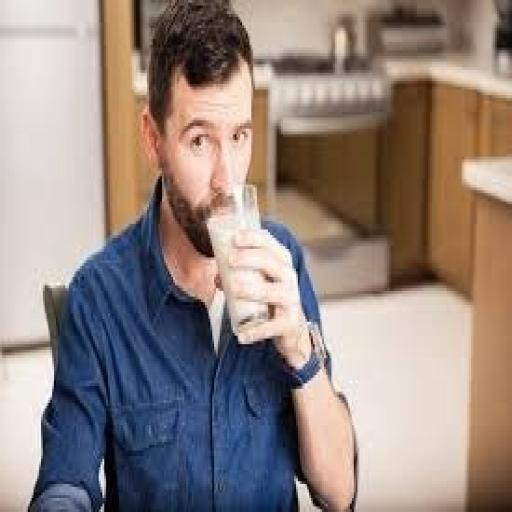drinking: (205, 182, 272, 341)
